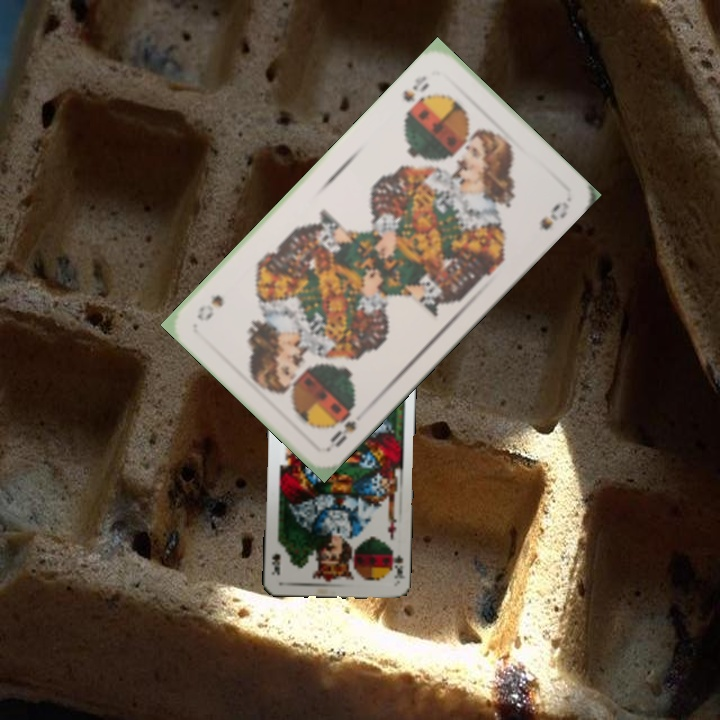SK: (387, 545, 406, 581)
SO: (324, 400, 360, 452), (399, 71, 432, 117)
